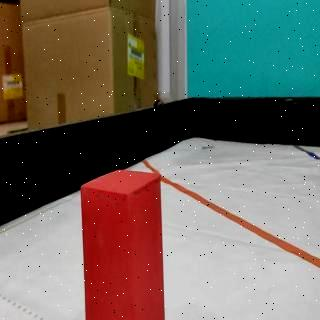redbox: (80, 168, 164, 320)
